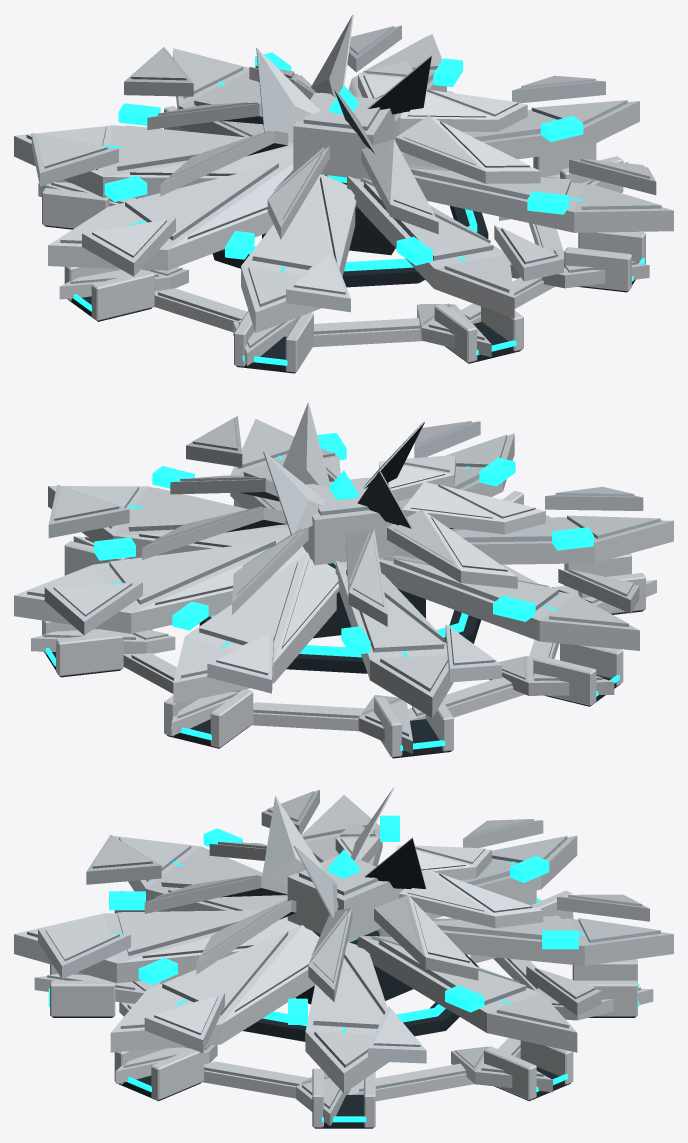
File: 04_zitadelle.glb
The picture shows the model from 3 angles, top to bottom: view 1: azimuth 30°, elevation 25°; view 2: azimuth 150°, elevation 25°; view 3: azimuth 270°, elevation 25°; orthographic projection. The views are drawn at different scales.
Visible parts, largest first — view 1: Hull, service_rotor; view 2: Hull, service_rotor; view 3: Hull, service_rotor.
Part boxes in pixels (x1=…): Hull: x1=14, y1=14, x2=673, y2=373; service_rotor: x1=154, y1=206, x2=563, y2=347; Hull: x1=14, y1=402, x2=673, y2=758; service_rotor: x1=123, y1=564, x2=559, y2=731; Hull: x1=14, y1=787, x2=673, y2=1128; service_rotor: x1=119, y1=954, x2=538, y2=1101.
Bounding box in the file's own units: 40 × 13.08 × 40.
